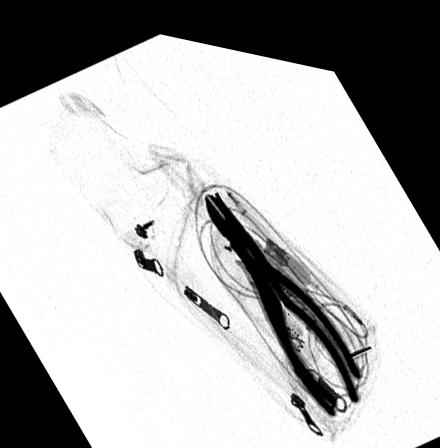Pliers: (199, 177, 366, 397), (209, 178, 363, 408)
